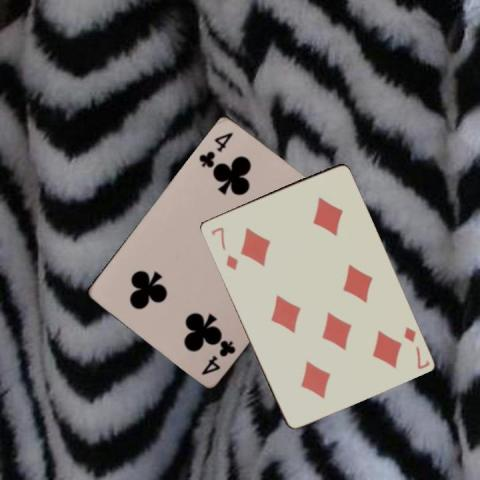4c: (195, 128, 235, 168), (198, 336, 237, 376)
7d: (208, 224, 239, 272), (400, 323, 431, 371)
